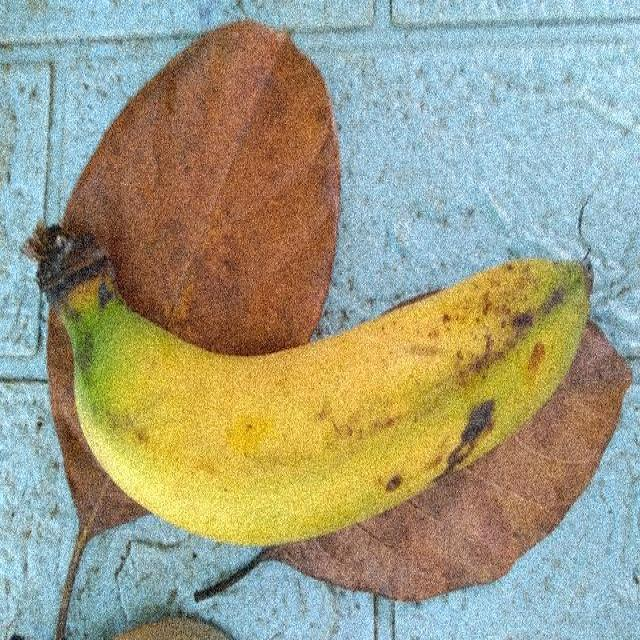Muito Madura: (40, 225, 608, 552)
